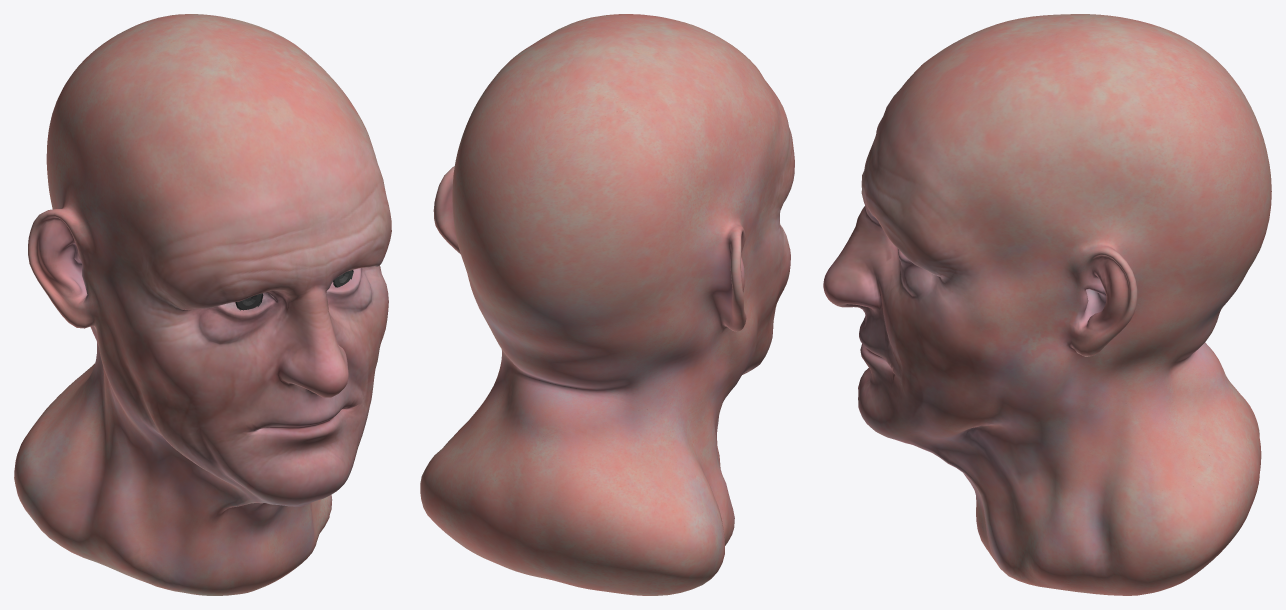
Rendered from free_old_man_head.glb.
3 renders of one model, left to right at view 1: azimuth 30°, elevation 25°; view 2: azimuth 150°, elevation 25°; view 3: azimuth 270°, elevation 25°, orthographic.
Visible parts, largest first — view 1: PM3D_Sphere3D_3.000_2; view 2: PM3D_Sphere3D_3.000_2; view 3: PM3D_Sphere3D_3.000_2.
Boxes of the visible parts, x1,y1,x2,y2 form: PM3D_Sphere3D_3.000_2: (14,14,391,595); PM3D_Sphere3D_3.000_2: (420,14,794,595); PM3D_Sphere3D_3.000_2: (823,14,1271,595).
Size of the model in its own units: 2.34 by 3.86 by 2.9.
3 materials, 1 textured.
